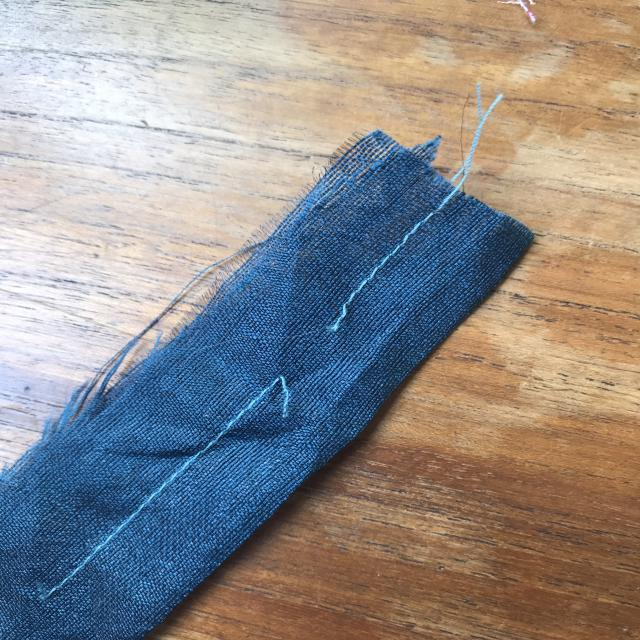broken: (260, 295, 352, 422)
